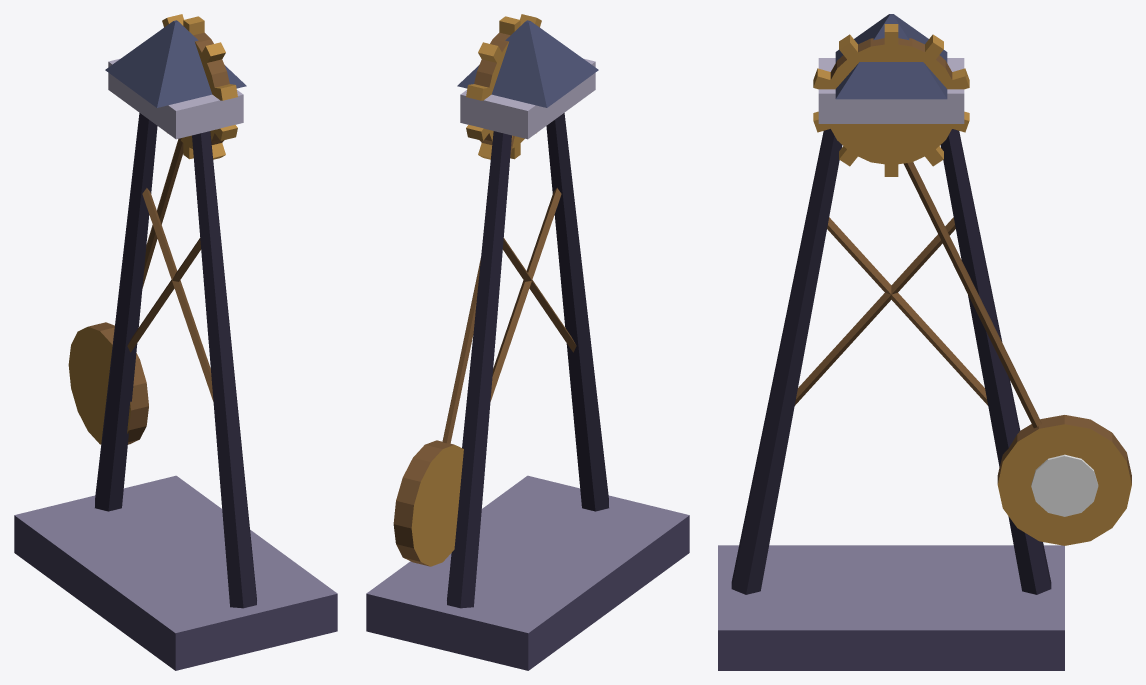
File: Fair_Pendulum.fbx
The picture shows the model from 3 angles, left to right: view 1: azimuth 30°, elevation 25°; view 2: azimuth 150°, elevation 25°; view 3: azimuth 270°, elevation 25°; orthographic projection. The views are drawn at different scales.
Parts seen in each view (by area): view 1: Fair_Pendulum; view 2: Fair_Pendulum; view 3: Fair_Pendulum.
Boxes of the visible parts, x1,y1,x2,y2 form: Fair_Pendulum: (14, 14, 337, 670); Fair_Pendulum: (366, 14, 689, 670); Fair_Pendulum: (718, 14, 1131, 670).
Size of what is drawn, in the model's own units: 3.6 by 12.1 by 7.4.
2 materials, 1 textured.
